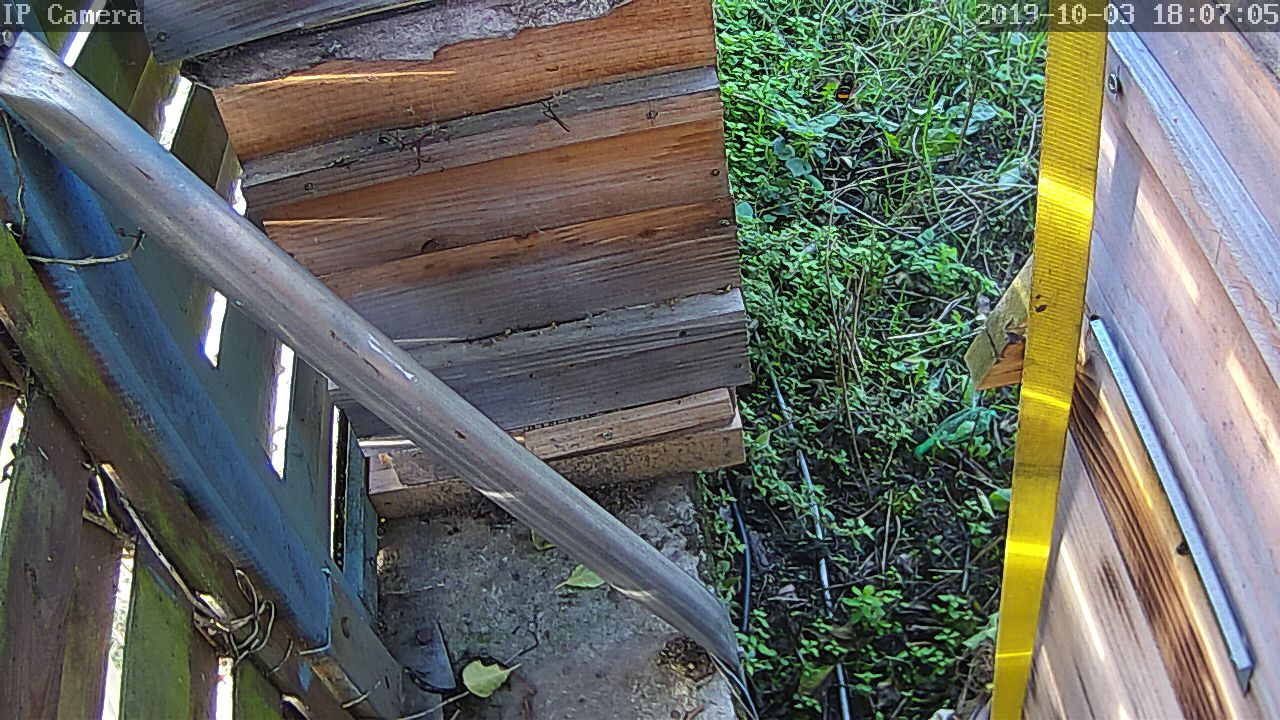hornet: (831, 68, 859, 107)
